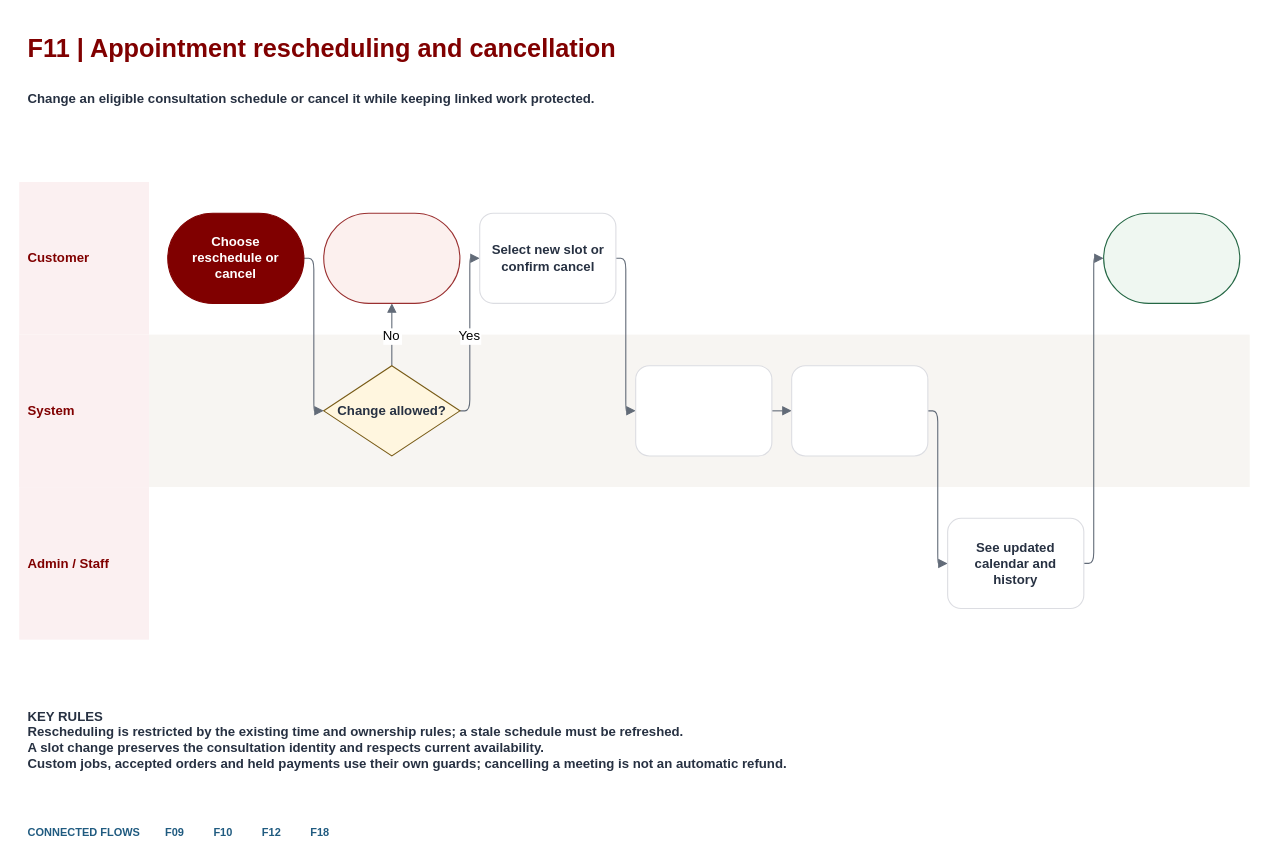
Image size: 1268x860. Some labels were removed from this diagram. The shapes that lost their labels are listed below. From the top down, each one's box as (x1, y1, x2, y2) in pixels, then its label:
(323, 212, 460, 303): Read blocker; keep current booking
(1103, 212, 1240, 303): Read confirmed result
(635, 365, 772, 456): Lock and recheck latest schedule
(791, 365, 928, 456): Commit schedule or cancellation
